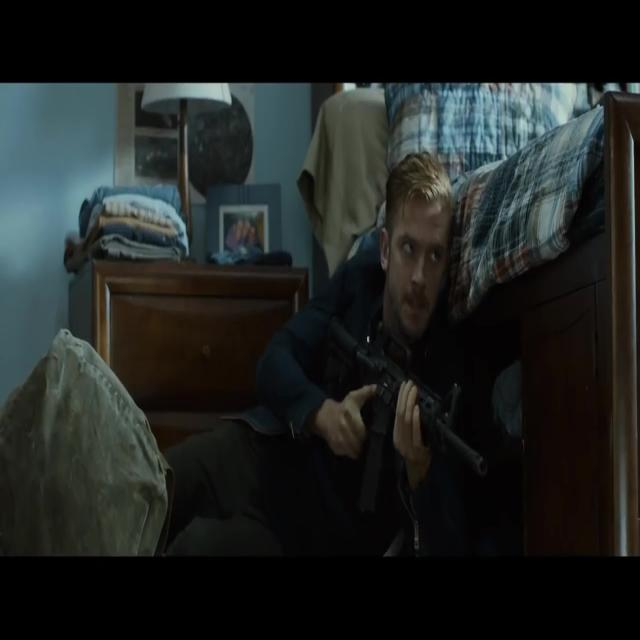Weapon: (296, 262, 545, 540)
